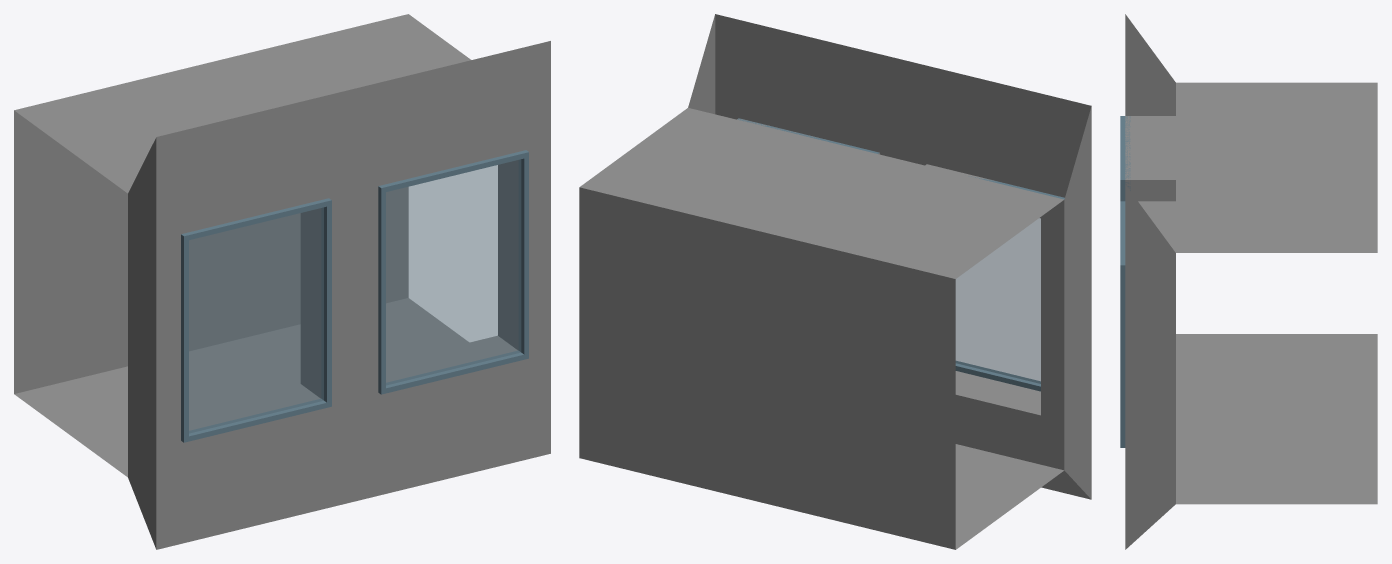
File: officeBuilding01_windowSmall02.FBX
3 views of the same model, side by side, from view 1: azimuth 30°, elevation 25°; view 2: azimuth 150°, elevation 25°; view 3: azimuth 270°, elevation 25° (orthographic). The views are drawn at different scales.
Visible parts, largest first — view 1: officeBuilding01_windowSmall02; view 2: officeBuilding01_windowSmall02; view 3: officeBuilding01_windowSmall02.
Boxes of the visible parts, x1,y1,x2,y2 form: officeBuilding01_windowSmall02: (14, 14, 550, 549); officeBuilding01_windowSmall02: (579, 14, 1091, 549); officeBuilding01_windowSmall02: (1120, 14, 1377, 549).
Bounding box in the file's own units: 400 × 400 × 255.
